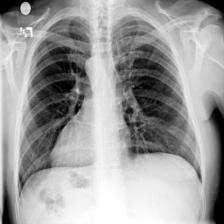normal: (14, 11, 208, 197)
